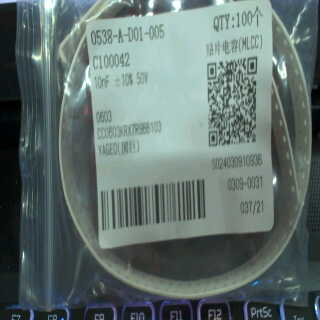10nF: (92, 73, 111, 90)
